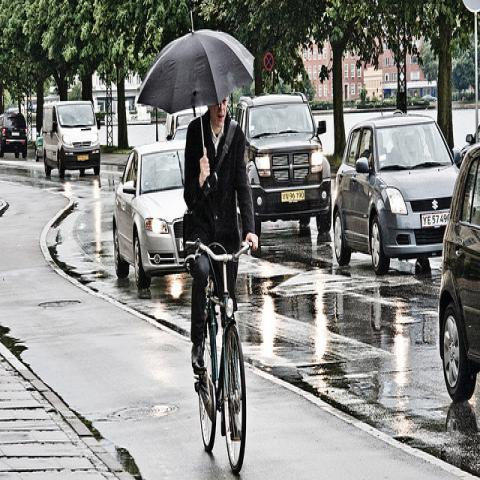car: (331, 113, 460, 281), (114, 142, 190, 292), (438, 143, 480, 405), (166, 105, 208, 142), (0, 108, 29, 161), (170, 115, 201, 144)
truck: (235, 88, 331, 240), (43, 102, 102, 184)
